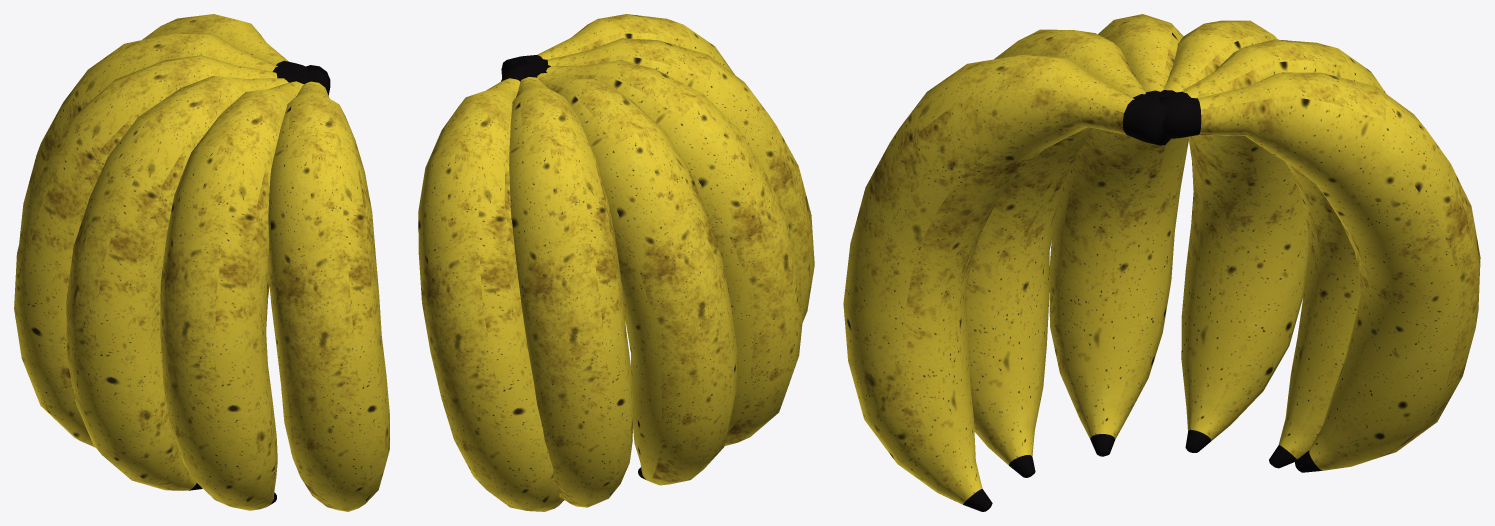
The model's file is BananaPenca.fbx.
The picture shows the model from 3 angles, left to right: view 1: azimuth 30°, elevation 25°; view 2: azimuth 150°, elevation 25°; view 3: azimuth 270°, elevation 25°; orthographic projection. The views are drawn at different scales.
Visible parts, largest first — view 1: Banana; view 2: Banana; view 3: Banana.
Part boxes in pixels (x1=…): Banana: x1=14, y1=14, x2=389, y2=511; Banana: x1=418, y1=14, x2=814, y2=511; Banana: x1=843, y1=14, x2=1480, y2=511.
Bounding box in the file's own units: 345 × 463 × 597.
